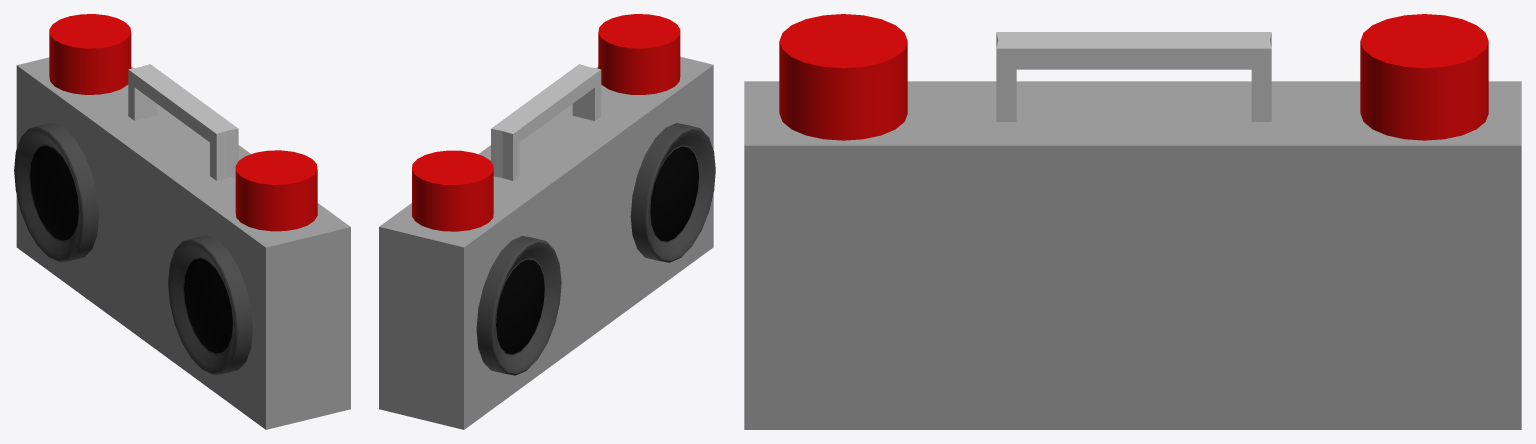
The model's file is enceinte.fbx.
3 views of the same model, side by side, from view 1: azimuth 30°, elevation 25°; view 2: azimuth 150°, elevation 25°; view 3: azimuth 270°, elevation 25° (orthographic). The views are drawn at different scales.
Visible parts, largest first — view 1: pCube3; view 2: pCube3; view 3: pCube3.
Boxes of the visible parts, x1,y1,x2,y2 form: pCube3: (14, 14, 350, 429); pCube3: (379, 14, 715, 429); pCube3: (744, 14, 1521, 429).
Bounding box in the file's own units: 2.15 × 4.58 × 9.02.
